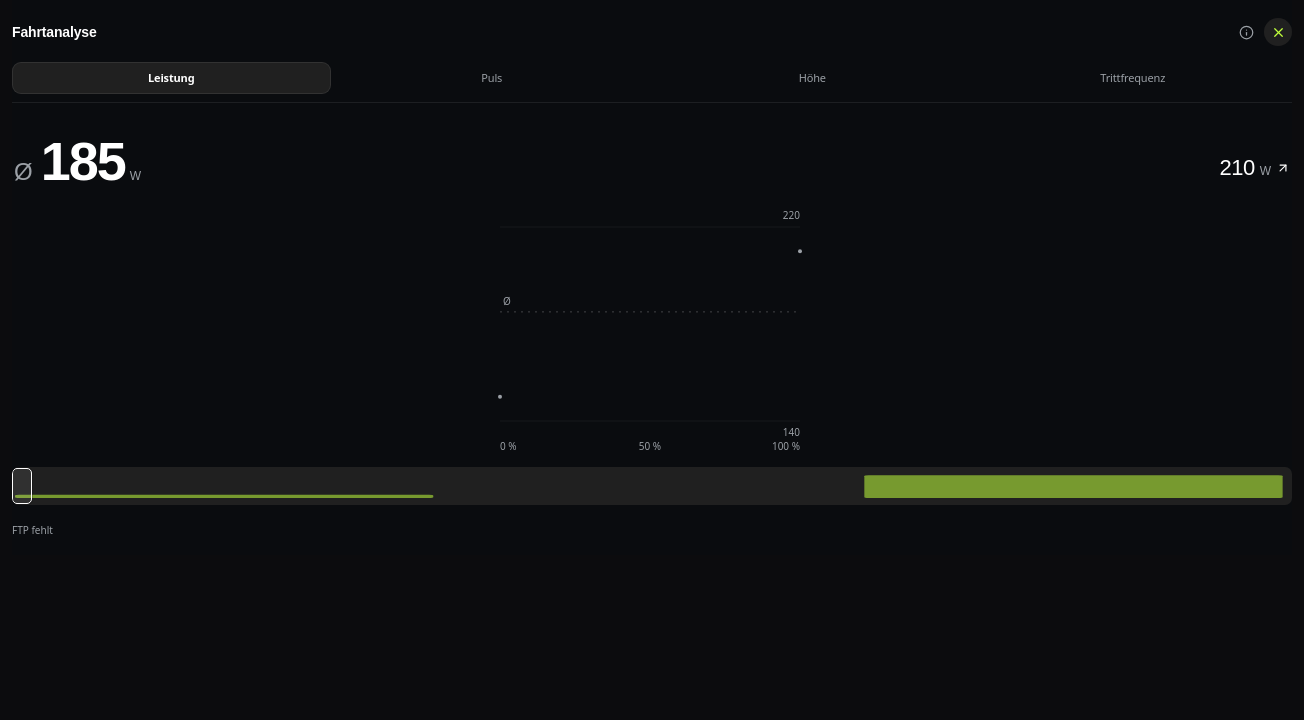
Test: switches true power and HR series and retains the recorded average
Check: the text "185" is shown, box [41,131,125,191]
Step 1. Click the button "Puls" → (492, 78), box [332,62,651,94]
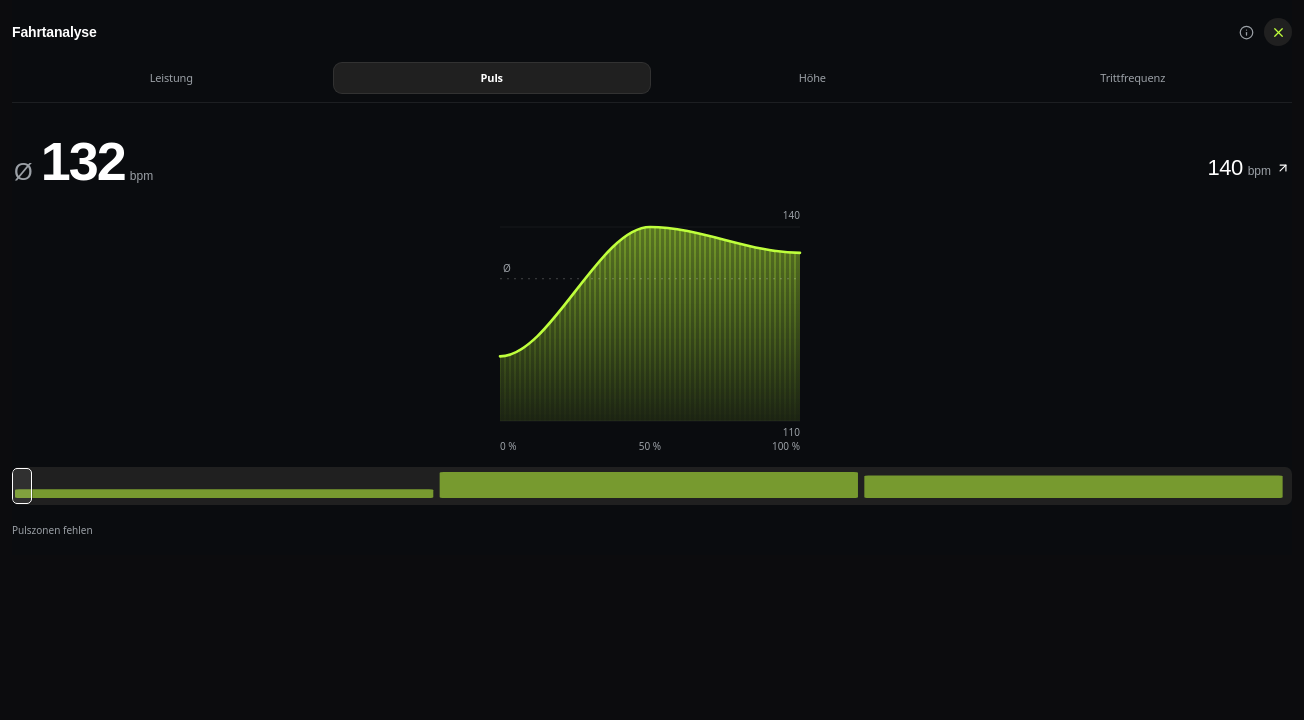
Check: the text "132" is shown, box [41,131,125,191]
Check: the picture named "Pulsverlauf der Fahrt" is shown, box [12,199,1292,457]
Step 2. Set the slider to "1" → (652, 486), box [12,467,1292,505]
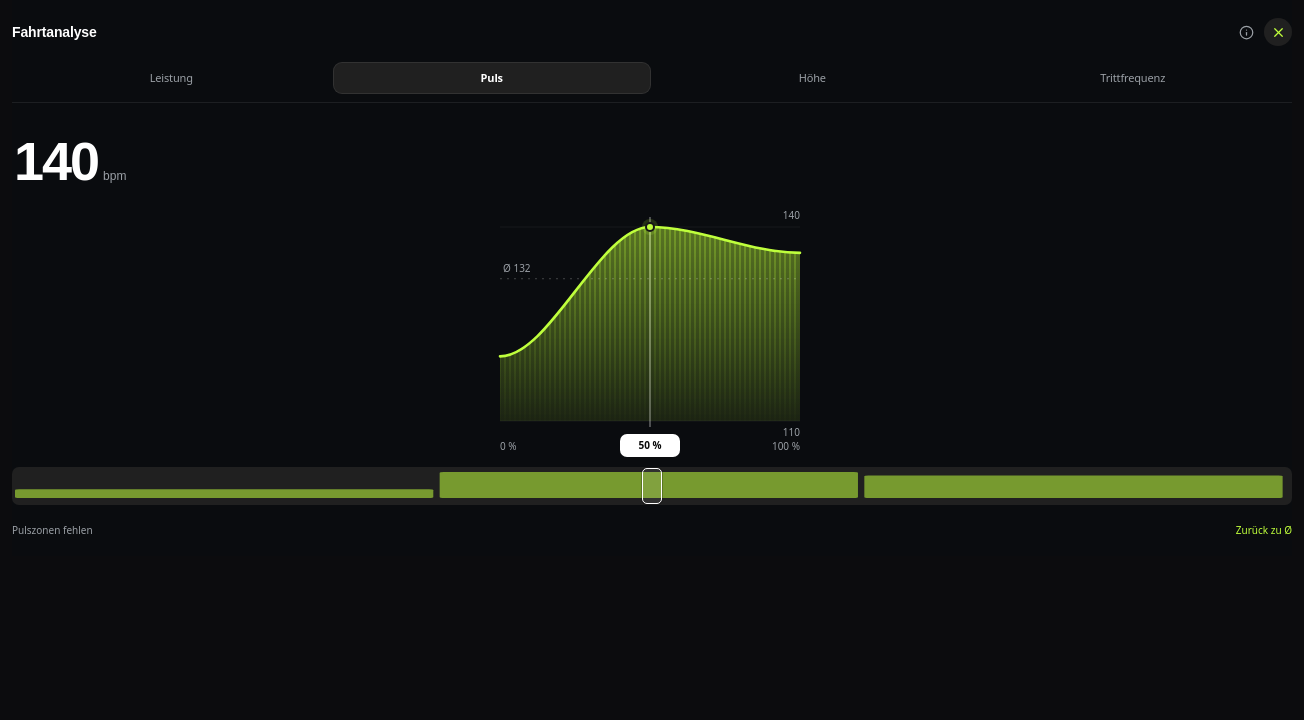
Check: the text "140" is shown, box [14,131,98,191]
Step 3. Click the button "Zurück zu Ø" → (1264, 530), box [1236,521,1292,540]
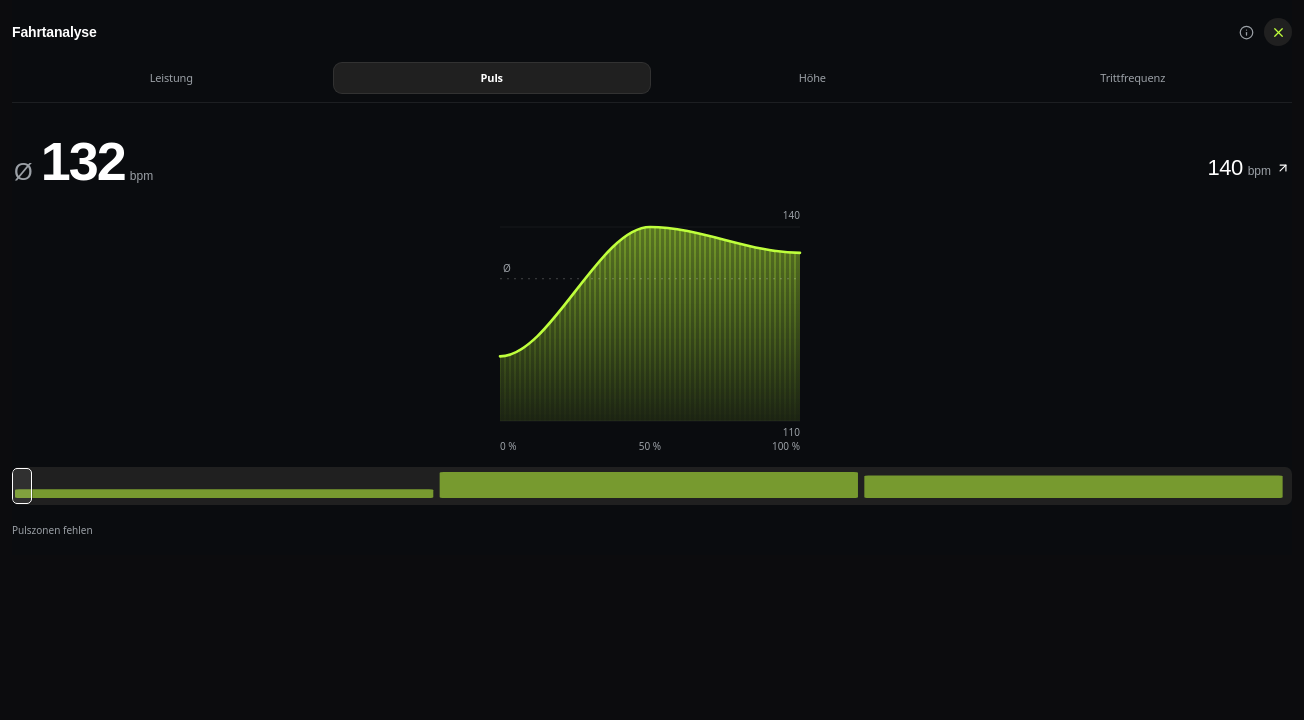
Check: the text "132" is shown, box [41,131,125,191]
